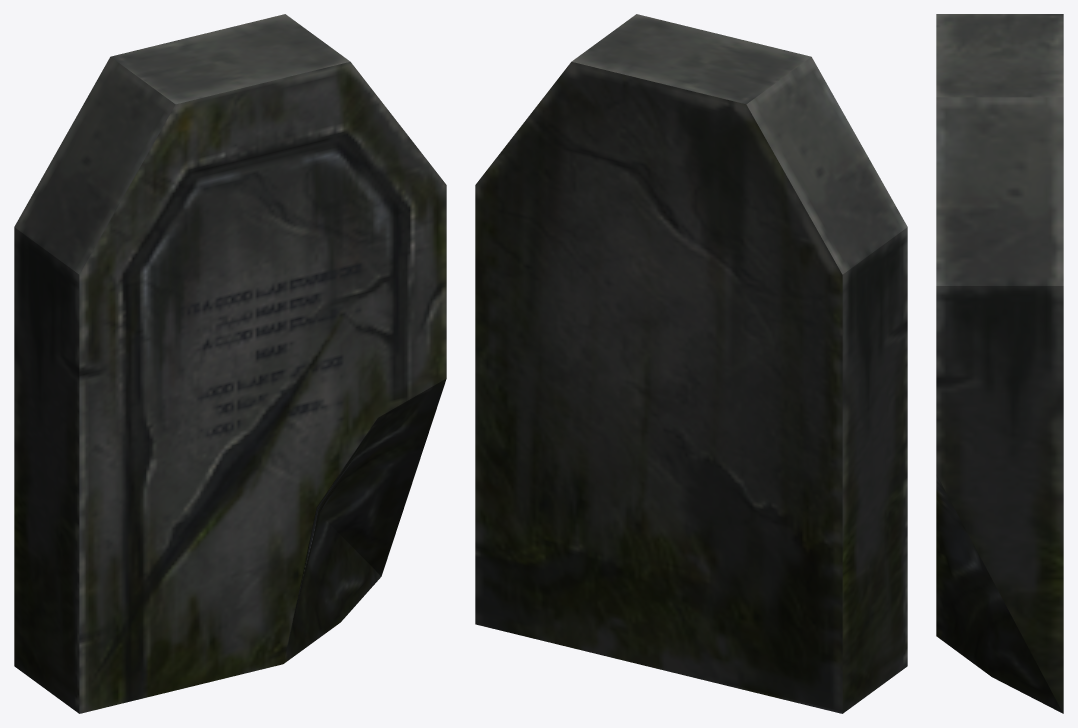
The model's file is C_mubei001.fbx.
The picture shows the model from 3 angles, left to right: view 1: azimuth 30°, elevation 25°; view 2: azimuth 150°, elevation 25°; view 3: azimuth 270°, elevation 25°; orthographic projection. The views are drawn at different scales.
Parts seen in each view (by area): view 1: C_mubei001; view 2: C_mubei001; view 3: C_mubei001.
Boxes of the visible parts, <box> form: C_mubei001: <box>14,14,446,713</box>; C_mubei001: <box>475,14,907,713</box>; C_mubei001: <box>936,14,1063,713</box>.
Bounding box in the file's own units: 68.72 × 105 × 21.14.
